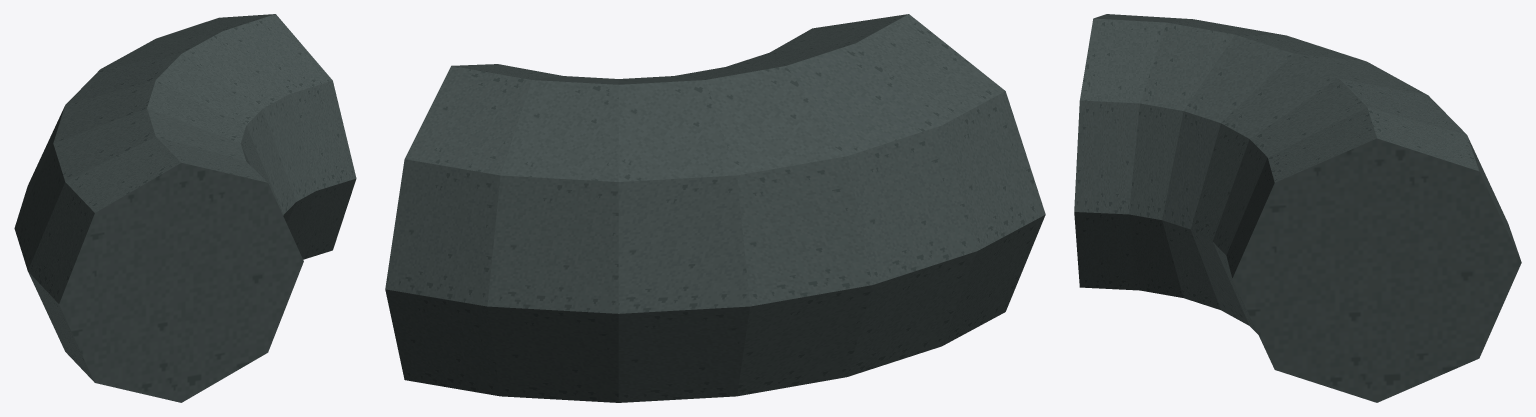
File: PipeElbow90.fbx
3 renders of one model, left to right at view 1: azimuth 30°, elevation 25°; view 2: azimuth 150°, elevation 25°; view 3: azimuth 270°, elevation 25°, orthographic. The views are drawn at different scales.
Visible parts, largest first — view 1: PipeElbow90; view 2: PipeElbow90; view 3: PipeElbow90.
Part boxes in pixels (left/top/right/bottom): PipeElbow90: left=14, top=14, right=356, bottom=402; PipeElbow90: left=385, top=14, right=1045, bottom=402; PipeElbow90: left=1074, top=14, right=1521, bottom=402.
Bounding box in the file's own units: 55.2 × 36 × 55.2.
